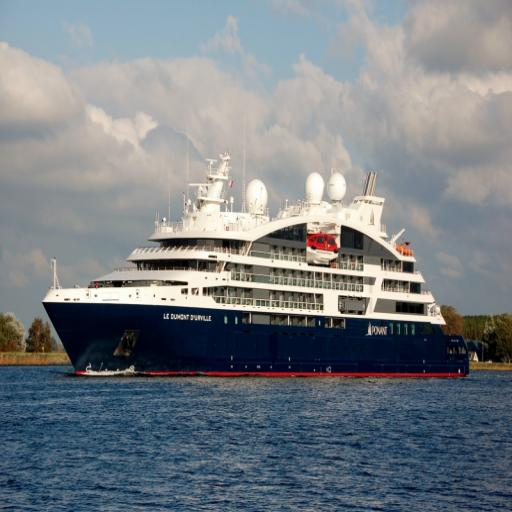cruises: (41, 146, 477, 387)
